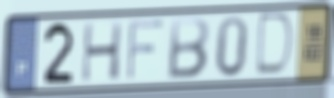0: (213, 15, 250, 79)
2: (42, 21, 76, 86)
B: (164, 16, 212, 81)
D: (252, 11, 297, 79)
F: (124, 17, 167, 83)
H: (79, 19, 125, 84)
